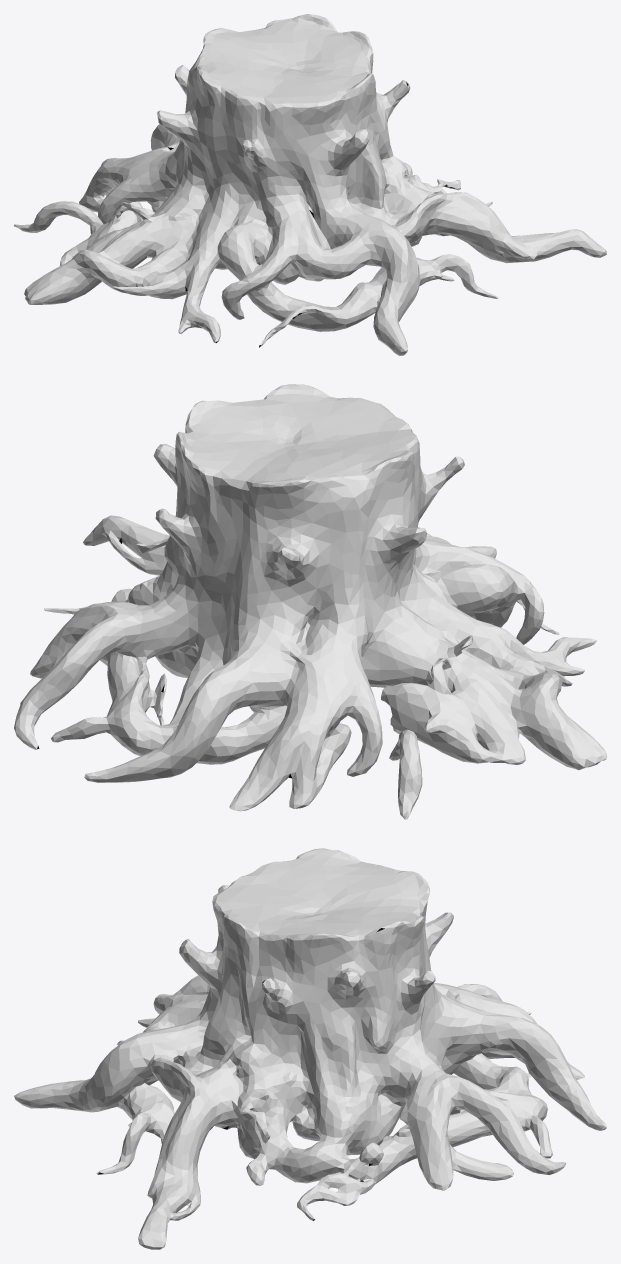
The model's file is stump02.glb.
The picture shows the model from 3 angles, top to bottom: view 1: azimuth 30°, elevation 25°; view 2: azimuth 150°, elevation 25°; view 3: azimuth 270°, elevation 25°; orthographic projection. The views are drawn at different scales.
Visible parts, largest first — view 1: Low; view 2: Low; view 3: Low.
Boxes of the visible parts, <box> form: Low: <box>14,14,606,355</box>; Low: <box>14,384,606,819</box>; Low: <box>14,848,606,1249</box>.
Size of the model in its own units: 1.94 by 0.774 by 1.81.
Materials: 1 (1 with a texture image).
